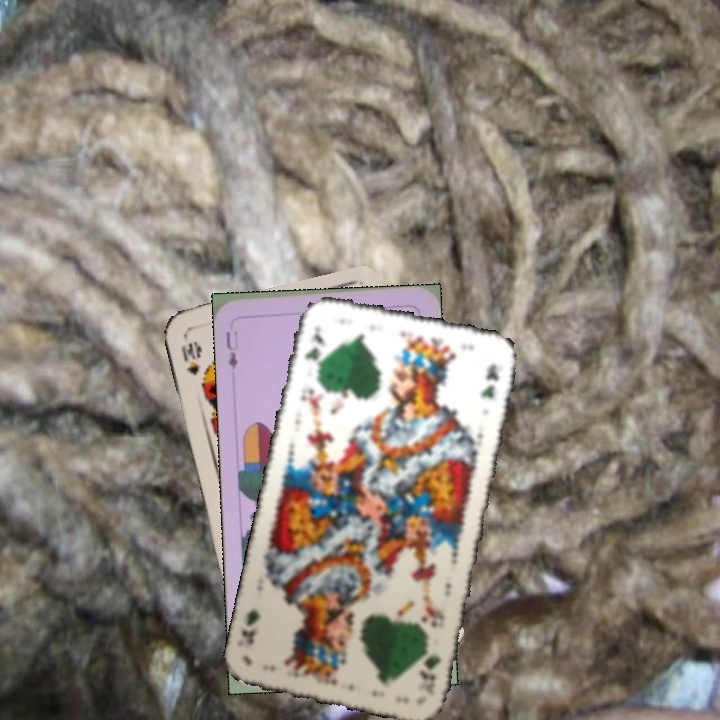EU: (222, 327, 241, 372)
GK: (417, 639, 444, 697), (301, 321, 327, 378)
S10: (177, 331, 203, 378)
